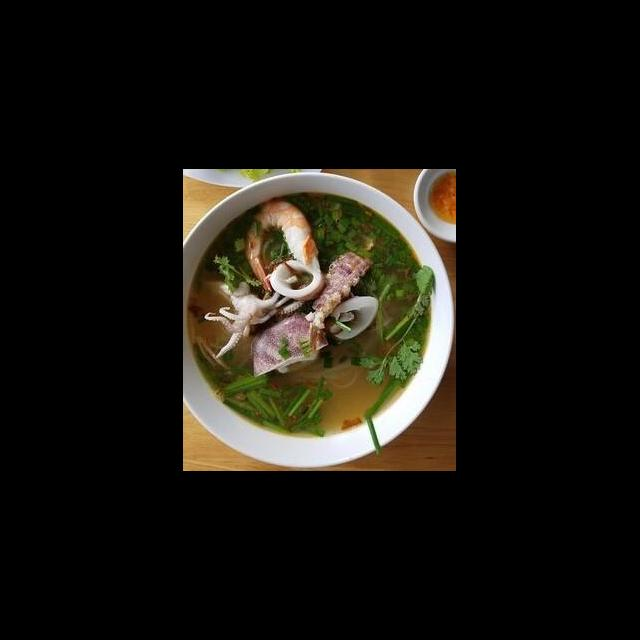muc: (202, 276, 310, 361), (248, 310, 330, 380), (323, 289, 382, 342), (266, 257, 328, 303)
tom: (242, 192, 322, 294)
tom tit: (302, 239, 386, 330)
